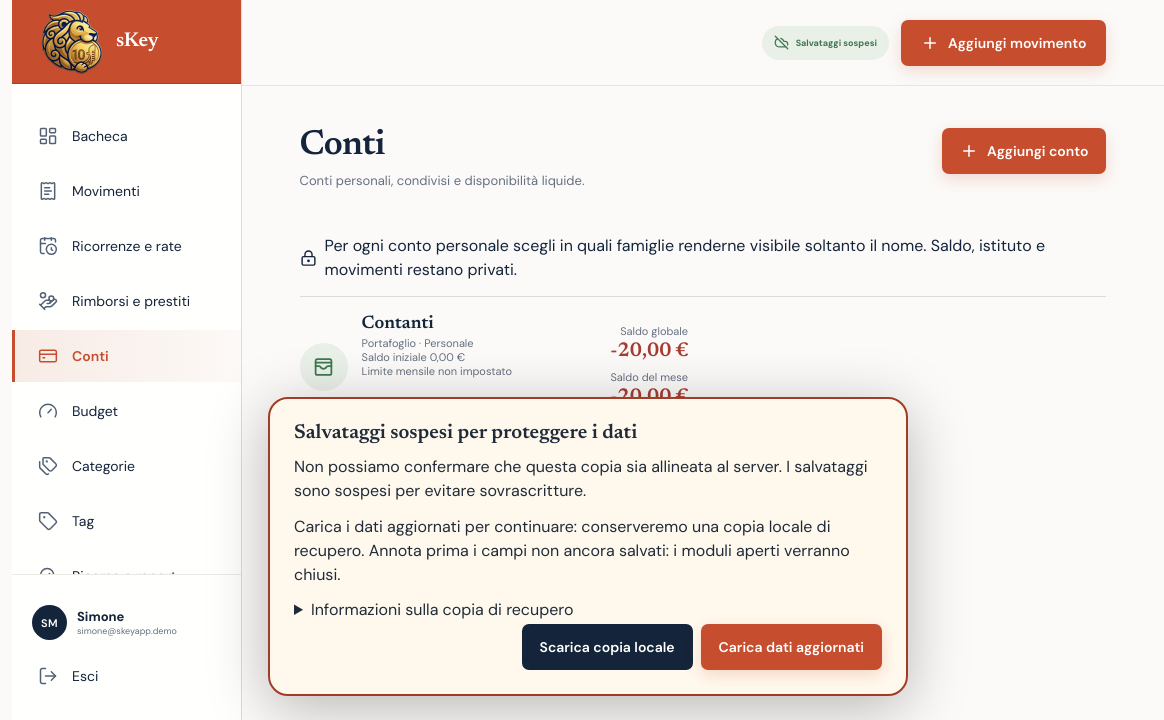
Test: cloud save lifecycle on mobile › keeps additions from another device when reopening an offline pending archive
Expected: the heading "Salvataggi sospesi per proteggere i dati" is shown, [294,423,637,443]
Step 1. Click the button "Carica dati aggiornati" → (791,647), box [701,624,882,670]
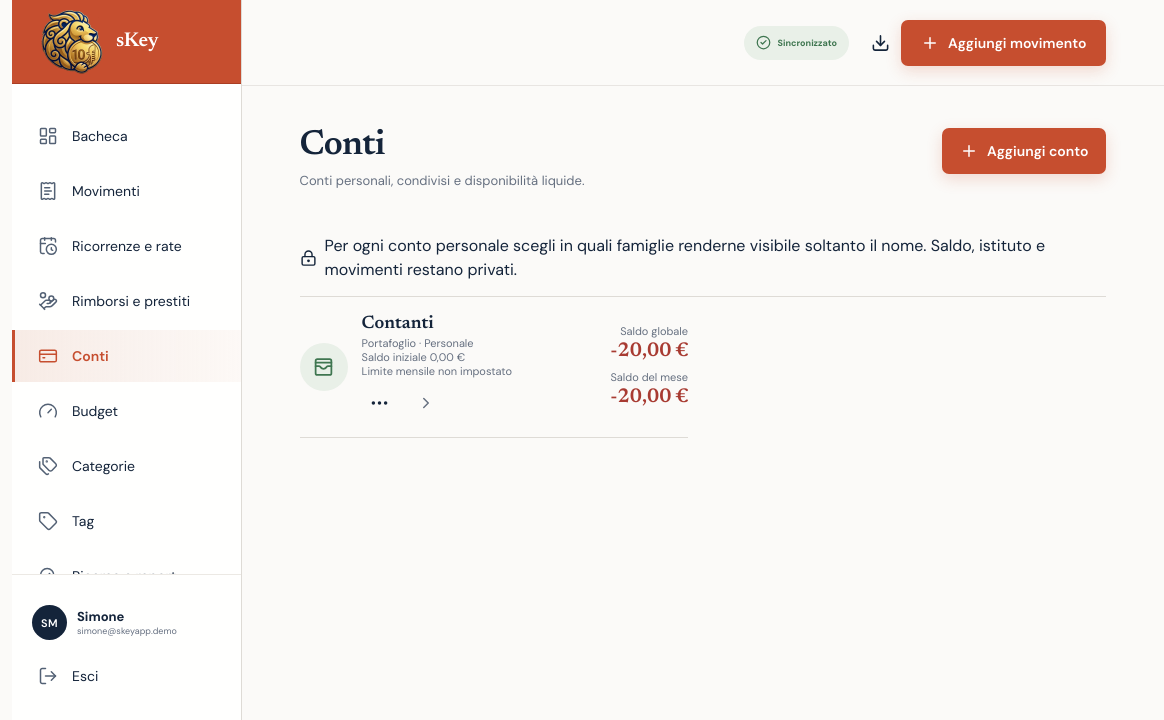
Expected: the text "Sincronizzato" is shown, [744,26,849,60]
Expected: the button named "Scarica ultima copia di recupero" is shown, [861,22,901,62]
